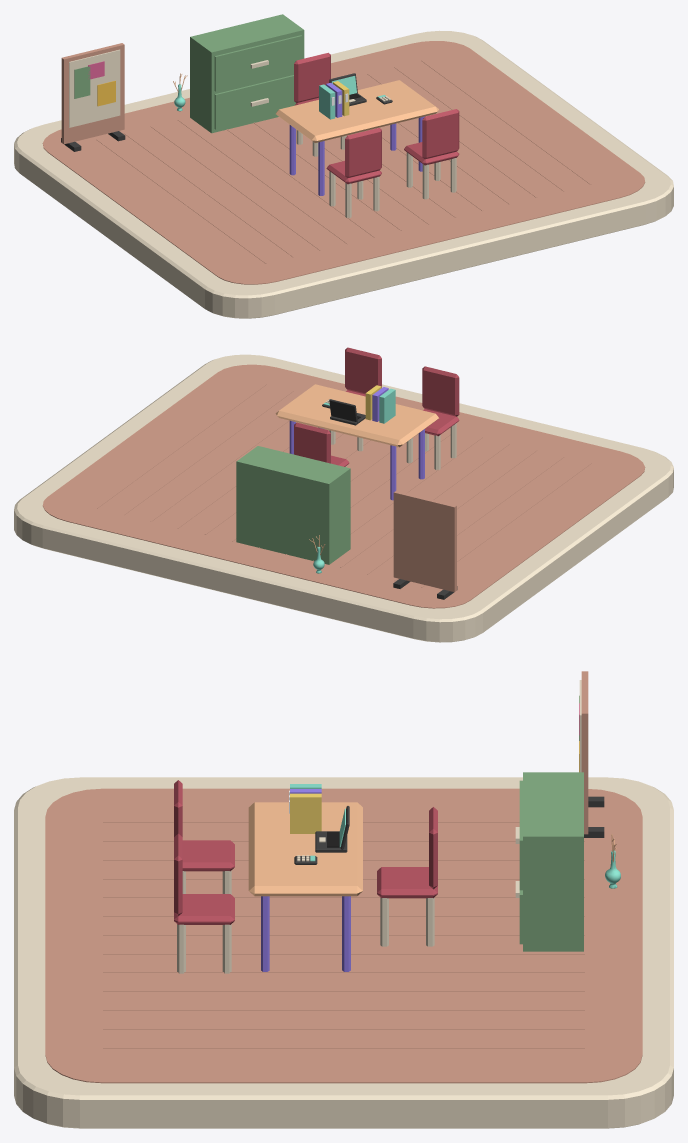
The picture shows the model from 3 angles, top to bottom: view 1: azimuth 30°, elevation 25°; view 2: azimuth 150°, elevation 25°; view 3: azimuth 270°, elevation 25°; orthographic projection. The views are drawn at different scales.
Visible parts, largest first — view 1: COM-02 Floor Surface, COM-01 Rounded Base Direct, Cabinet, Rounded table top, Canvas, Panel, Backrest.001, Backrest, Backrest.002, Abstract geometric work, Seat.001, File (+1 smaller); view 2: COM-02 Floor Surface, COM-01 Rounded Base Direct, Cabinet, Panel, Rounded table top, Backrest, Backrest.001, Backrest.002, File, Seat, Hinged display; view 3: COM-02 Floor Surface, COM-01 Rounded Base Direct, Cabinet, Rounded table top, Seat.002, Seat.001, Seat, File.002, Panel, Plank seam.010, Plank seam.011, Plank seam.012 (+6 smaller).
Part boxes in pixels (x1,y1,x2,y2): COM-02 Floor Surface: [42, 41, 645, 284]; COM-01 Rounded Base Direct: [14, 30, 673, 318]; Cabinet: [190, 14, 304, 133]; Rounded table top: [276, 80, 438, 142]; Canvas: [69, 49, 120, 127]; Panel: [61, 43, 124, 144]; Backrest.001: [422, 109, 459, 159]; Backrest: [345, 128, 381, 178]; Backrest.002: [294, 52, 330, 102]; Abstract geometric work: [74, 66, 90, 98]; Seat.001: [404, 142, 459, 165]; File: [319, 84, 335, 119]; COM-02 Floor Surface: [42, 364, 645, 608]; COM-01 Rounded Base Direct: [14, 354, 673, 642]; Cabinet: [236, 446, 350, 564]; Panel: [393, 491, 456, 592]; Rounded table top: [275, 384, 438, 447]; Backrest: [422, 366, 459, 416]; Backrest.001: [345, 347, 381, 394]; Backrest.002: [294, 422, 330, 463]; File: [379, 388, 395, 423]; Seat: [423, 409, 459, 436]; Hinged display: [329, 399, 357, 422]; COM-02 Floor Surface: [45, 788, 642, 1083]; COM-01 Rounded Base Direct: [14, 777, 673, 1128]; Cabinet: [515, 772, 583, 951]; Rounded table top: [248, 802, 362, 896]; Seat.002: [377, 867, 437, 898]; Seat.001: [174, 894, 234, 924]; Seat: [182, 840, 234, 871]; File.002: [290, 793, 321, 833]; Panel: [581, 671, 588, 834]; Plank seam.010: [103, 1009, 584, 1010]; Plank seam.011: [103, 1028, 584, 1029]; Plank seam.012: [103, 1047, 584, 1048].
Size of the model in its own units: 6 by 1.42 by 5.2.
Materials: 1 (1 with a texture image).
